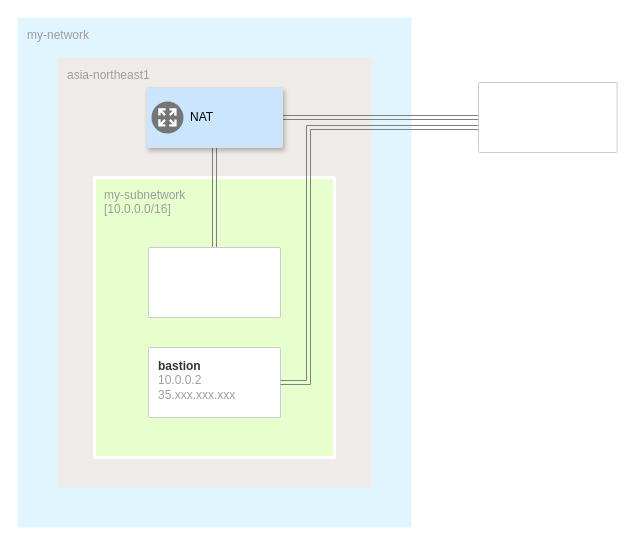
Image size: 635x544. Some labels were removed from this diagram. The shapes that lost their labels are listed below. From the top down, each one's centre as x and y in pixels, then its label:
At [547,117]: "Internet".
At [214,282]: "my-instance 10.0.0.3 外部IPアドレスなし".
